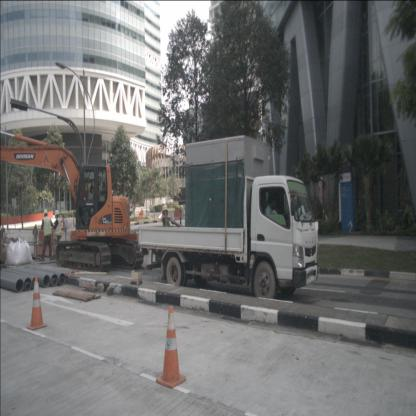barrier: (36, 228, 54, 259), (174, 210, 182, 220)
cone: (156, 304, 186, 387), (26, 274, 46, 330)
